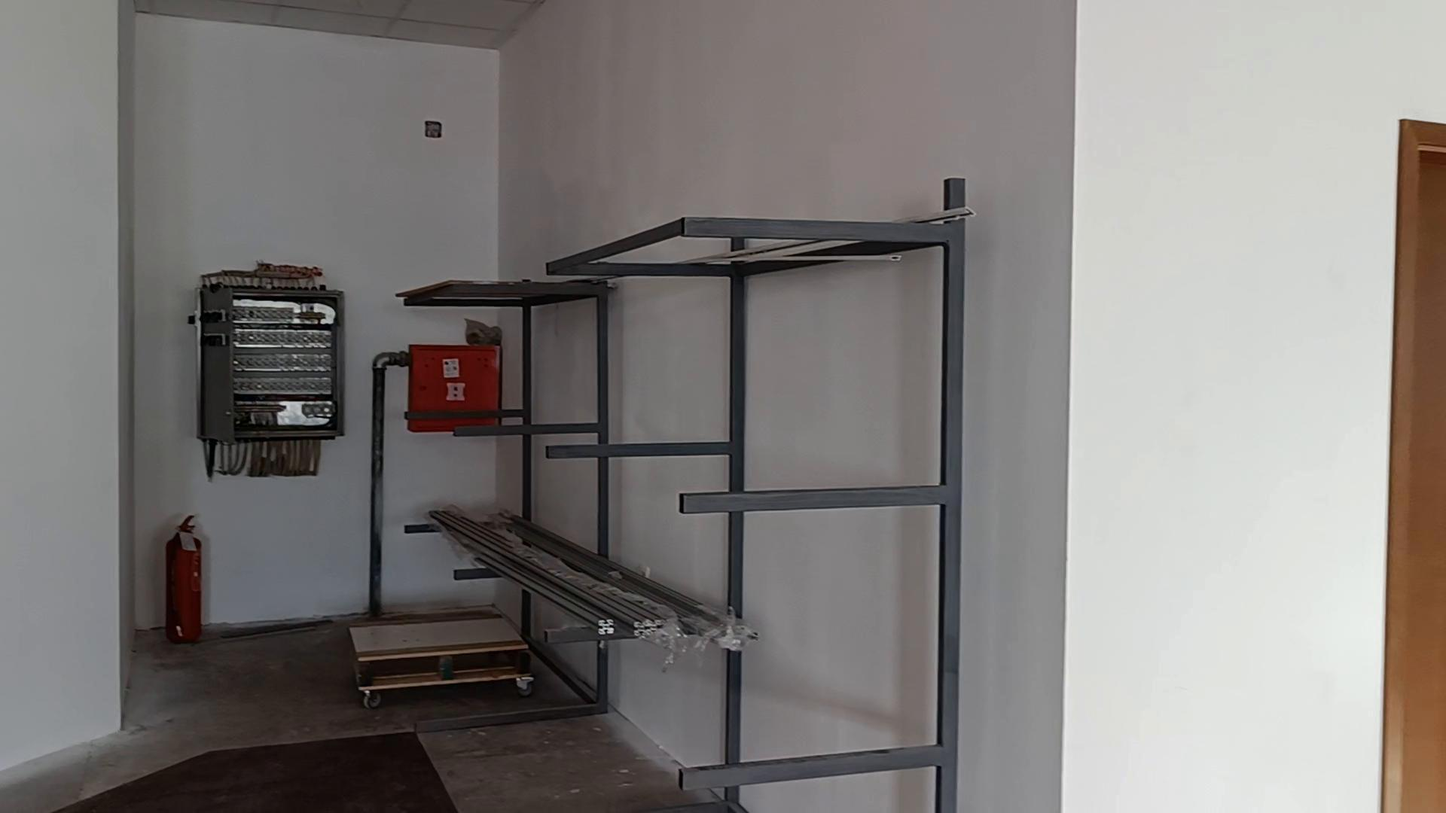ceiling: (134, 0, 543, 48)
floor: (0, 622, 751, 812)
wall: (1, 0, 1442, 812), (186, 297, 387, 616), (742, 516, 935, 759), (751, 265, 926, 487), (606, 458, 733, 595), (608, 291, 719, 434), (533, 307, 597, 419)
